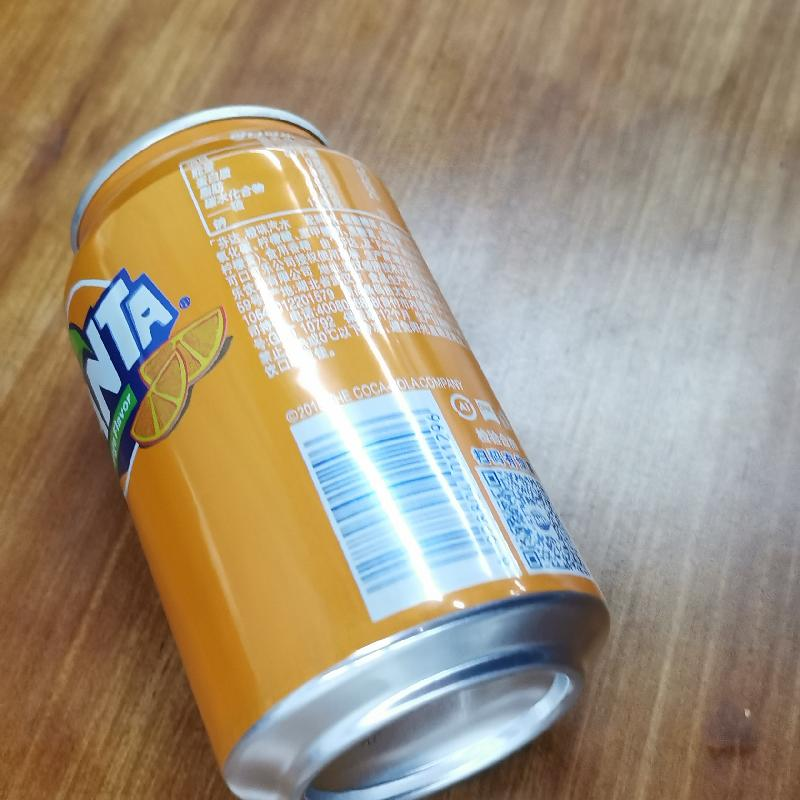cans: (59, 96, 611, 795)
